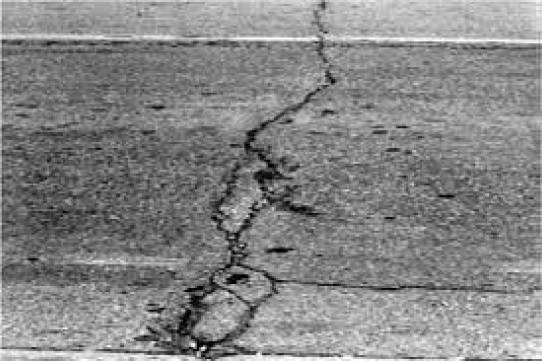Retak Melintang: (114, 1, 473, 361)
